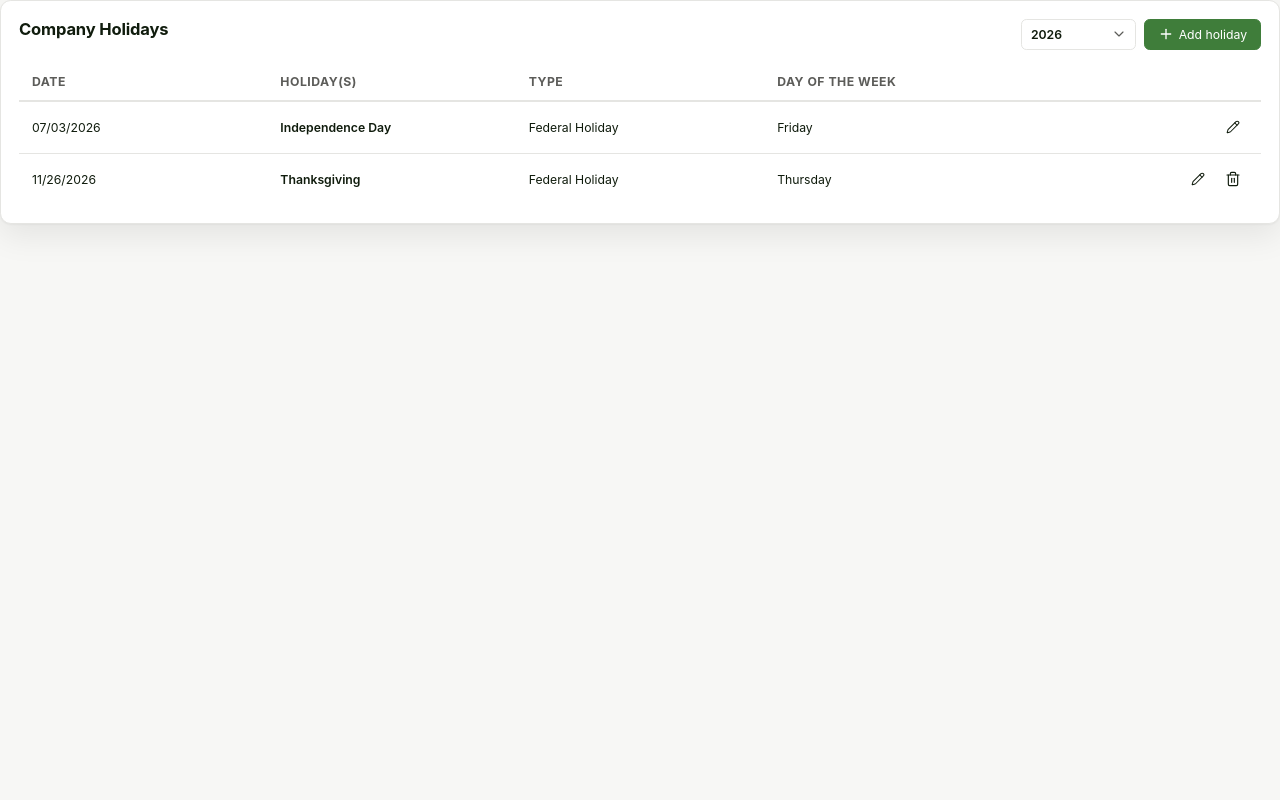
Scenario: CompanyHolidaysPanel › confirms with the leave impact, then deletes
What coordinates should you click on to do the following:
click the button named "Delete Thanksgiving"
I would click on:
 (1233, 179)
Its box is [1217, 164, 1248, 195].
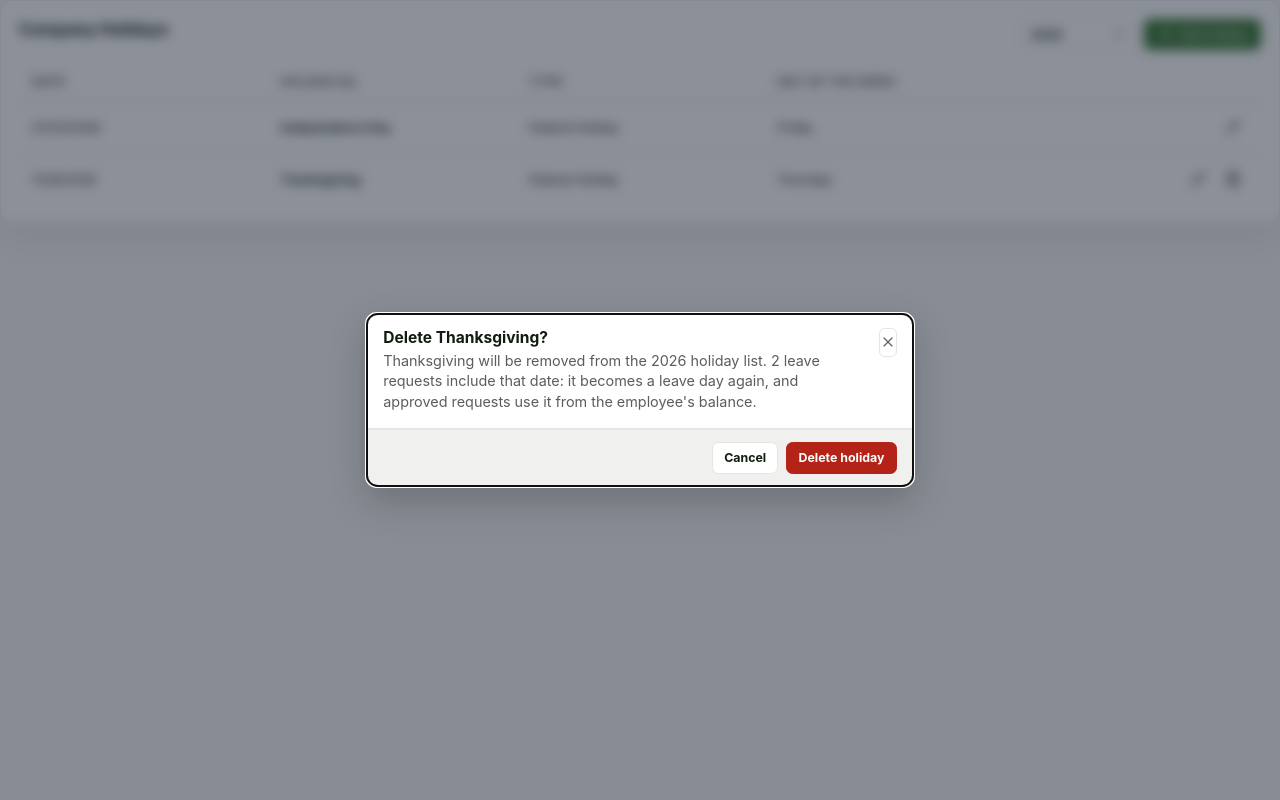
Expected: the text "2 leave requests include that date" is shown, [383, 352, 820, 410]
What coordinates should you click on to do the following:
click the button "Delete holiday"
I would click on:
 (842, 458)
Its box is [786, 442, 897, 474].
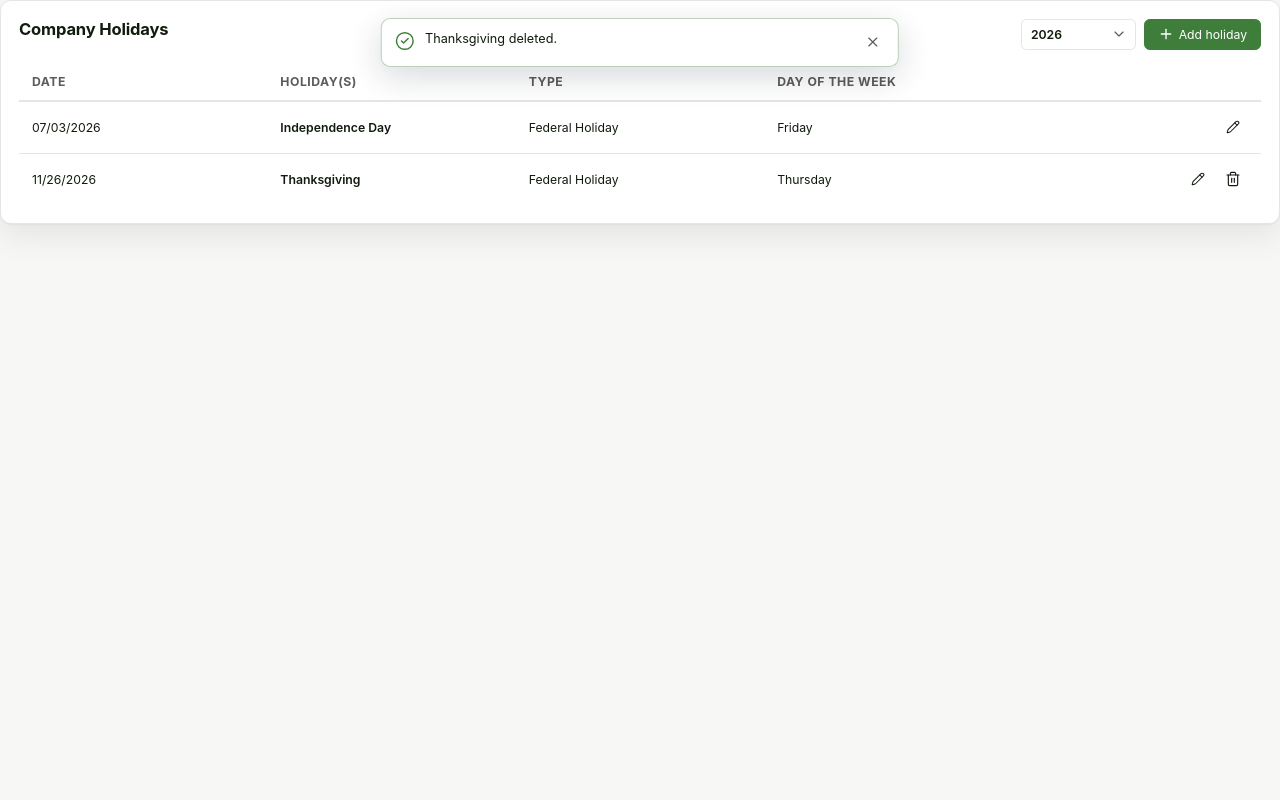
Expected: the text "Thanksgiving deleted." is shown, [425, 31, 557, 46]
